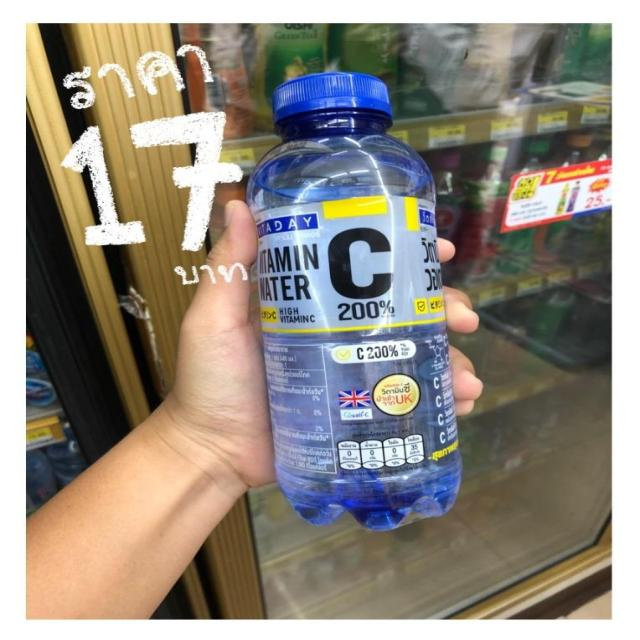high: (248, 73, 461, 529)
